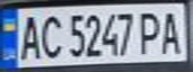2: (81, 10, 103, 57)
4: (100, 9, 121, 56)
5: (63, 10, 87, 58)
7: (115, 8, 139, 56)
A: (15, 11, 45, 61), (157, 7, 187, 55)
C: (36, 11, 66, 60)
P: (136, 8, 163, 55)
